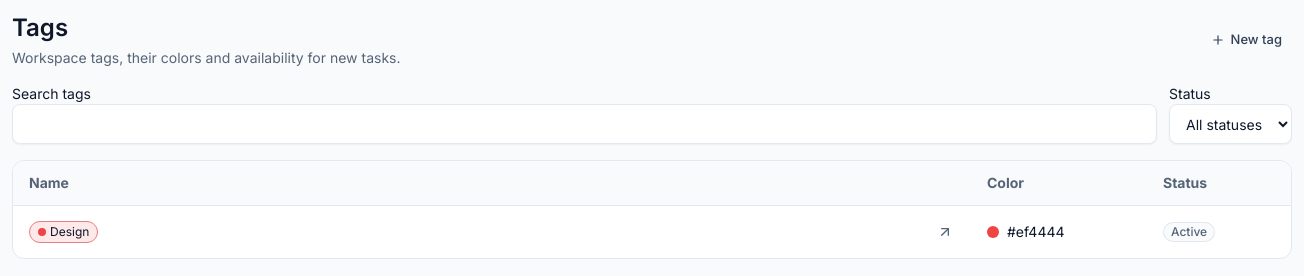
Test: tag catalog and settings › sends a pending edit only once and leaves focus where the user moved it
Click the button with aria-label "Edit name for Design" at (64, 232), box [21, 214, 923, 250]
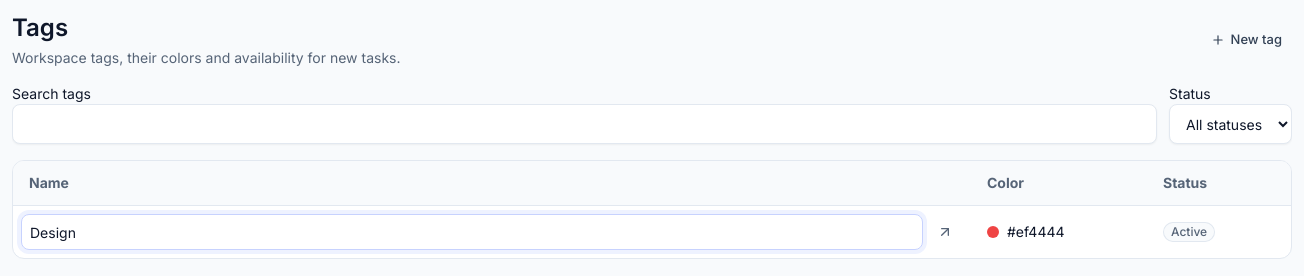
Replace the text in the field named "Tag name" with "Research" at (472, 232), box [21, 214, 923, 250]
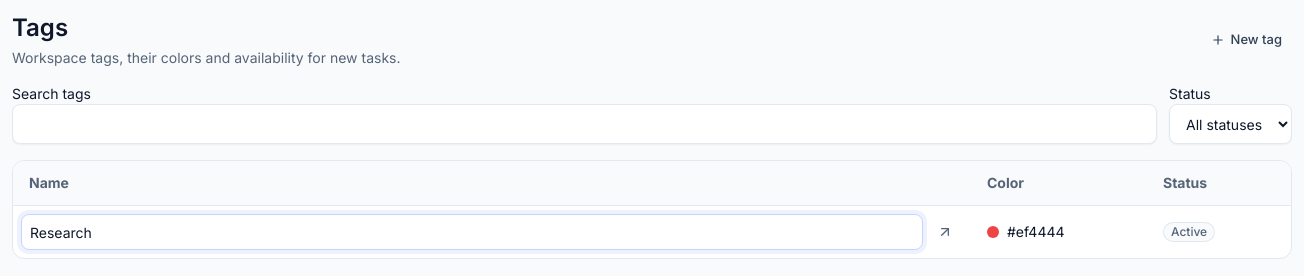
Submit the form, box [21, 214, 923, 250]
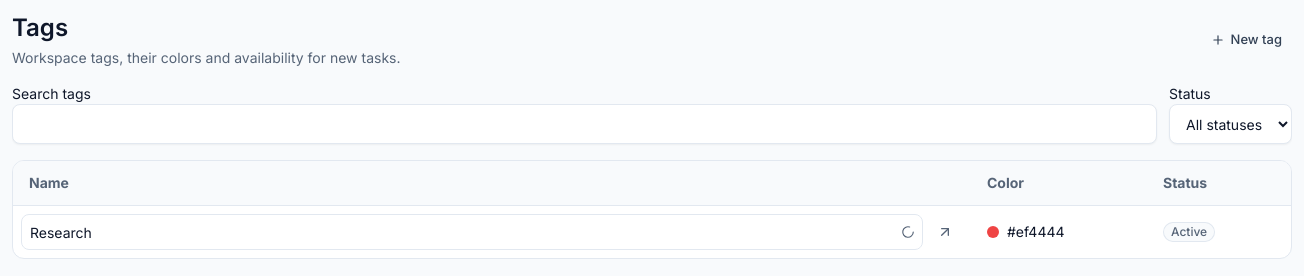
Submit the form, box [21, 214, 923, 250]
Click the search field labelled "Search tags" at (584, 124), box [12, 104, 1157, 144]
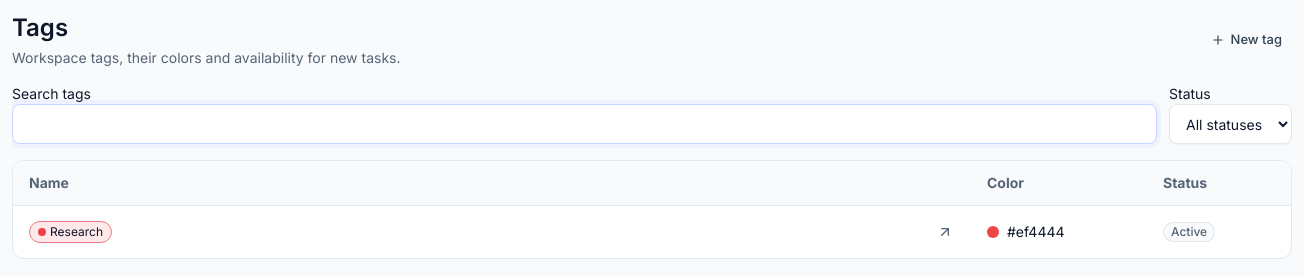
Now the button with aria-label "Edit name for Research" is shown, box [21, 214, 923, 250]
